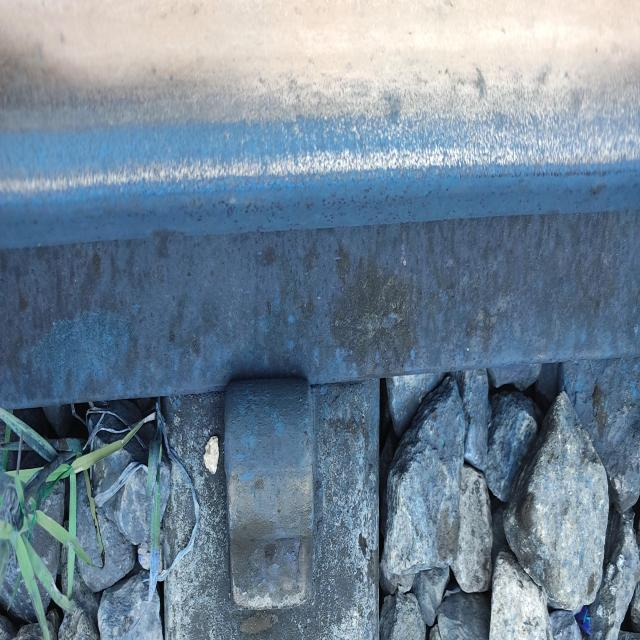Missing Fastener: (213, 369, 343, 628)
